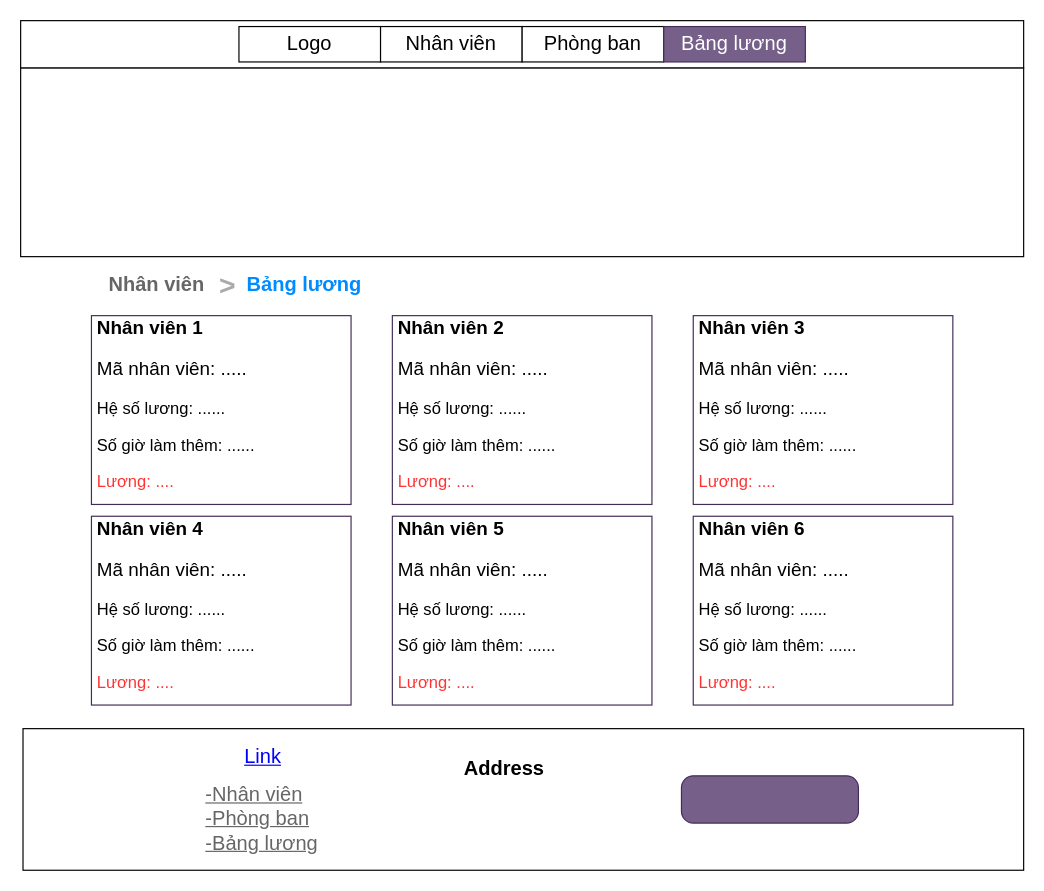
This 1044x891 diagram has some shape labels left out. Each missing label, with the box of its shape:
Social Network: (680, 775, 858, 823)
Ứng dụng quản lí nhân sự: (19, 67, 1024, 257)
